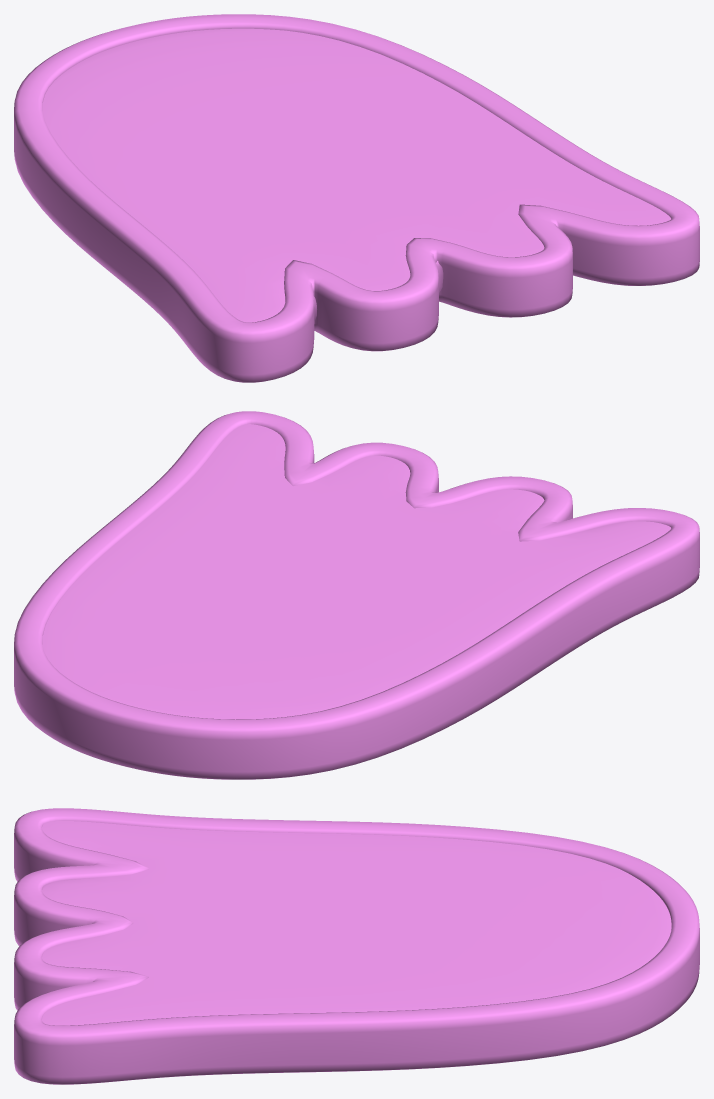
File: ghost_token.glb
3 views of the same model, one above another, from view 1: azimuth 30°, elevation 25°; view 2: azimuth 150°, elevation 25°; view 3: azimuth 270°, elevation 25° (orthographic). The views are drawn at different scales.
Visible parts, largest first — view 1: Cube.003; view 2: Cube.003; view 3: Cube.003.
Boxes of the visible parts, x1,y1,x2,y2 form: Cube.003: (14,14,699,382); Cube.003: (14,411,699,779); Cube.003: (14,808,699,1084).
Bounding box in the file's own units: 1.78 × 0.1852 × 2.24.
